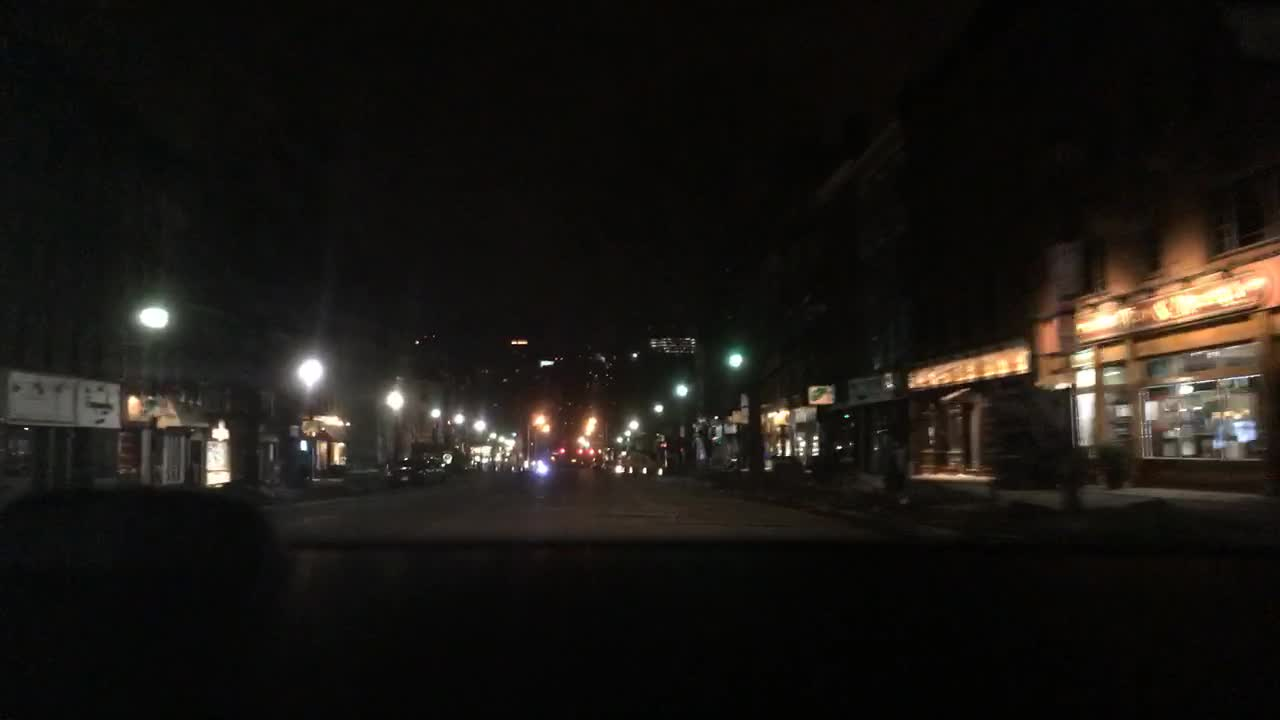car: (373, 451, 446, 486), (615, 452, 661, 477), (601, 452, 621, 472), (593, 456, 605, 472)
person: (871, 422, 911, 514)
traffic light: (574, 441, 583, 457), (557, 438, 564, 455)
traffic sign: (299, 417, 325, 438)
